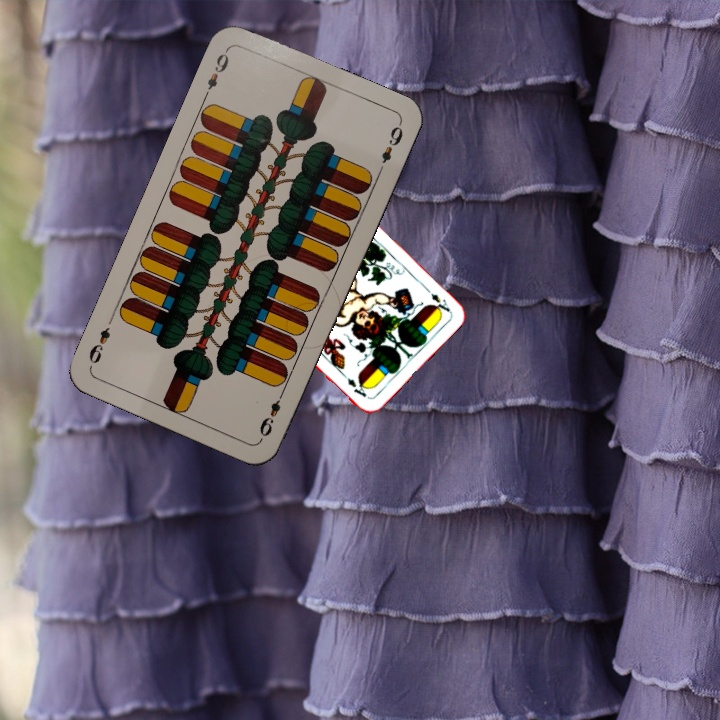E9: (255, 386, 288, 442), (200, 45, 232, 101)
EA: (426, 289, 453, 316)
